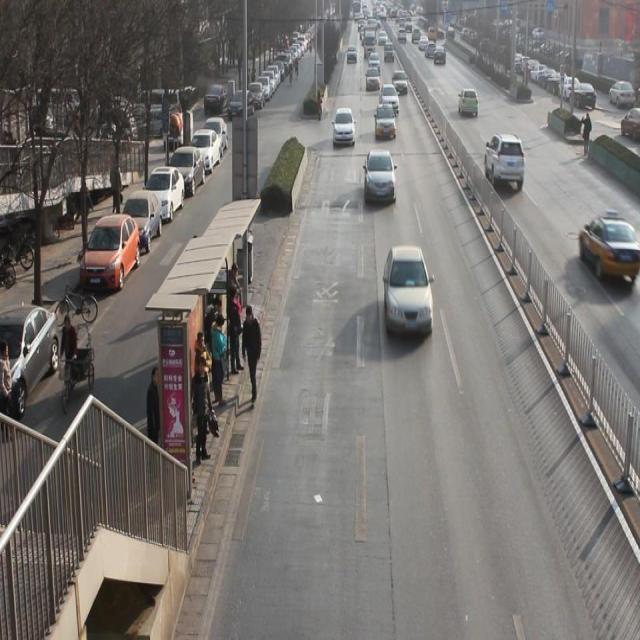car: (381, 244, 436, 339), (578, 208, 640, 286), (483, 130, 528, 196), (364, 149, 398, 204), (331, 107, 357, 148), (373, 103, 398, 139), (456, 86, 481, 118), (378, 86, 401, 112), (390, 68, 410, 97), (364, 66, 382, 92)
